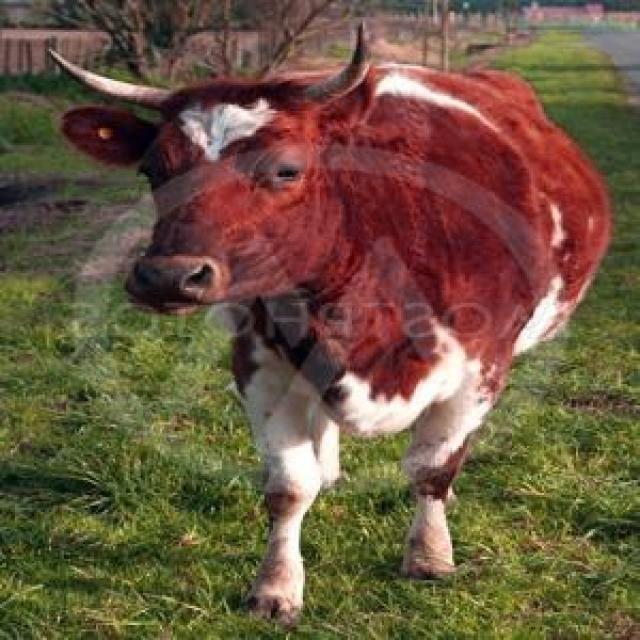cow: (62, 35, 611, 619)
